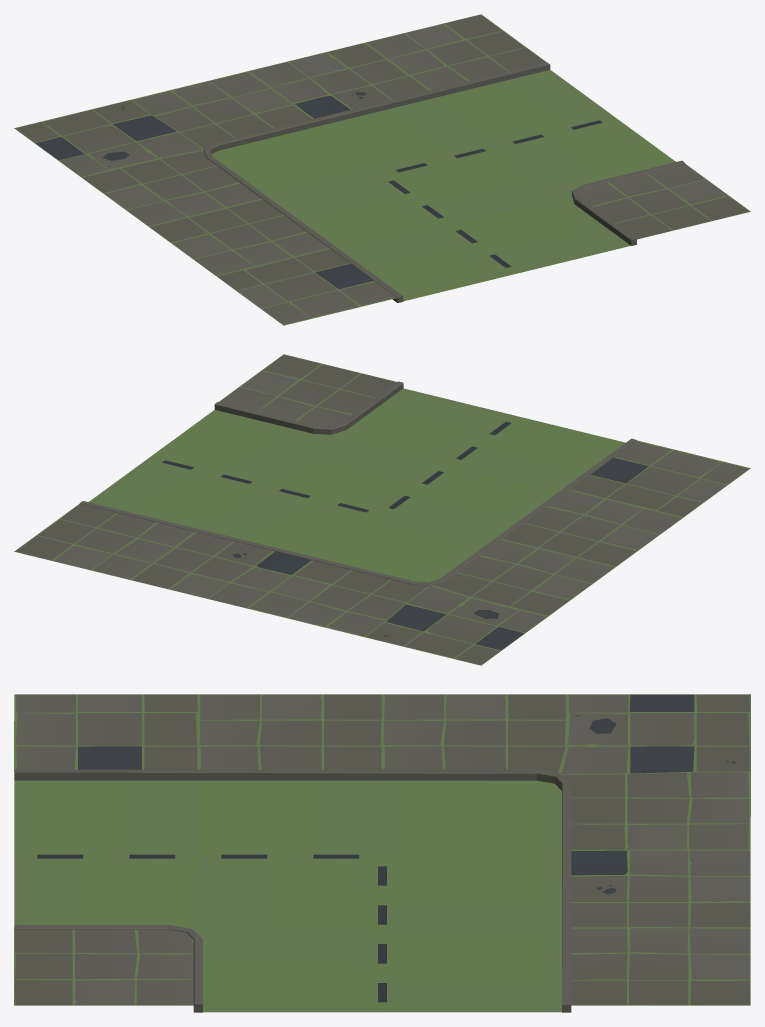
The model's file is Road_19.fbx.
3 renders of one model, top to bottom at view 1: azimuth 30°, elevation 25°; view 2: azimuth 150°, elevation 25°; view 3: azimuth 270°, elevation 25°, orthographic. The views are drawn at different scales.
Visible parts, largest first — view 1: Road_19; view 2: Road_19; view 3: Road_19.
Boxes of the visible parts, x1,y1,x2,y2 form: Road_19: (14,14,750,325); Road_19: (14,354,750,665); Road_19: (14,694,750,1012).
Size of the model in its own units: 12 by 0.15 by 12.01.
